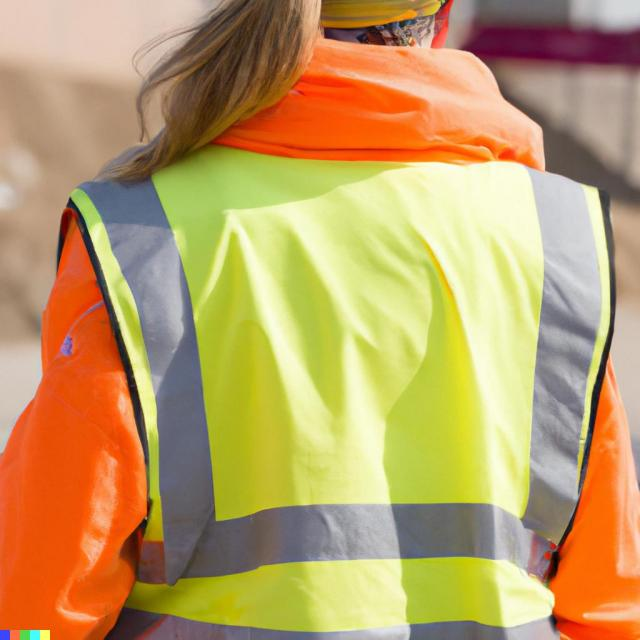Reflective-Jacket: (16, 38, 636, 640)
